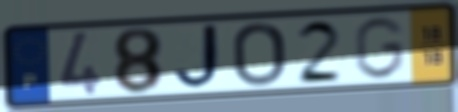2: (293, 18, 345, 83)
4: (56, 29, 103, 99)
8: (111, 25, 168, 96)
G: (351, 14, 407, 82)
J: (172, 21, 229, 93)
O: (230, 20, 288, 89)
